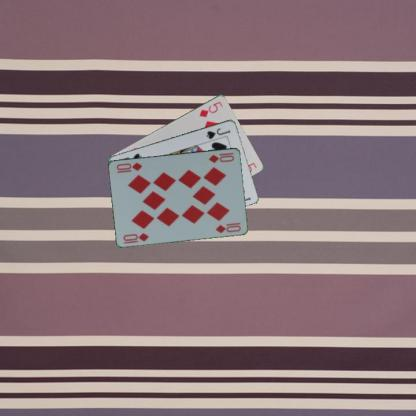10d: (206, 150, 235, 164), (121, 230, 150, 244)
5d: (197, 99, 224, 118)
Js: (204, 125, 232, 140)
